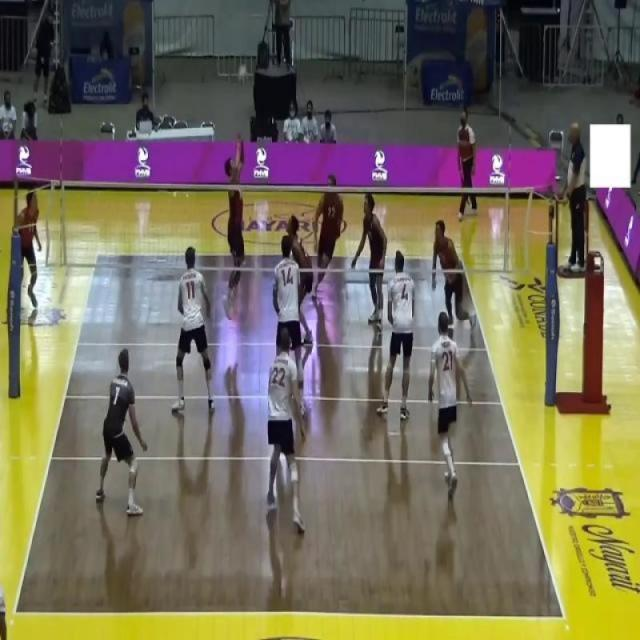volleyball: (238, 62, 248, 90)
